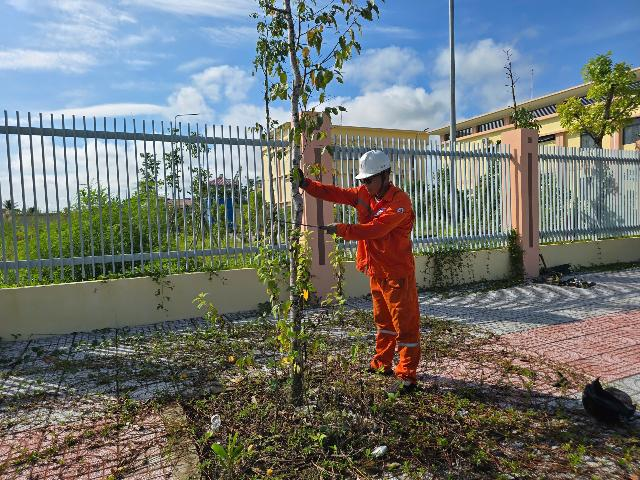gloves: (319, 211, 344, 239), (285, 163, 309, 190)
helmet: (350, 146, 396, 182)
shoes: (381, 375, 420, 395)
